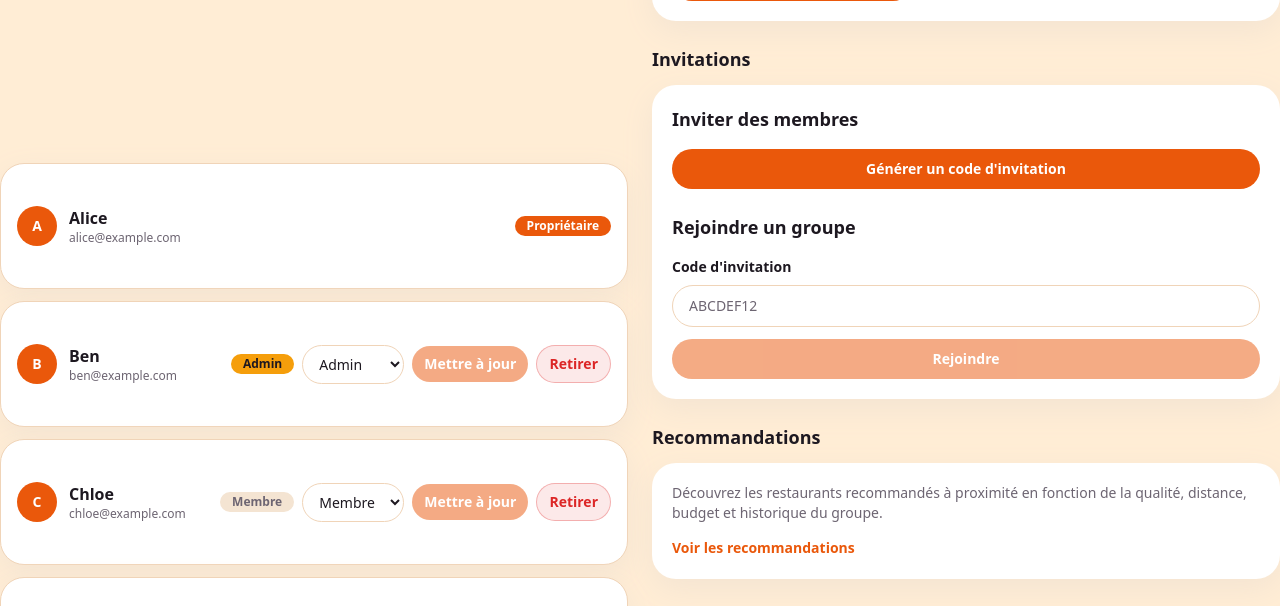
Test: GroupDetailPage › shows join error for conflict (409)
(page scrolled)
Expected: the heading "Invitations" is shown, [652, 47, 750, 71]
Type "ABC12345" into the field labelled "Code d'invitation" at (966, 306), box [672, 285, 1260, 327]
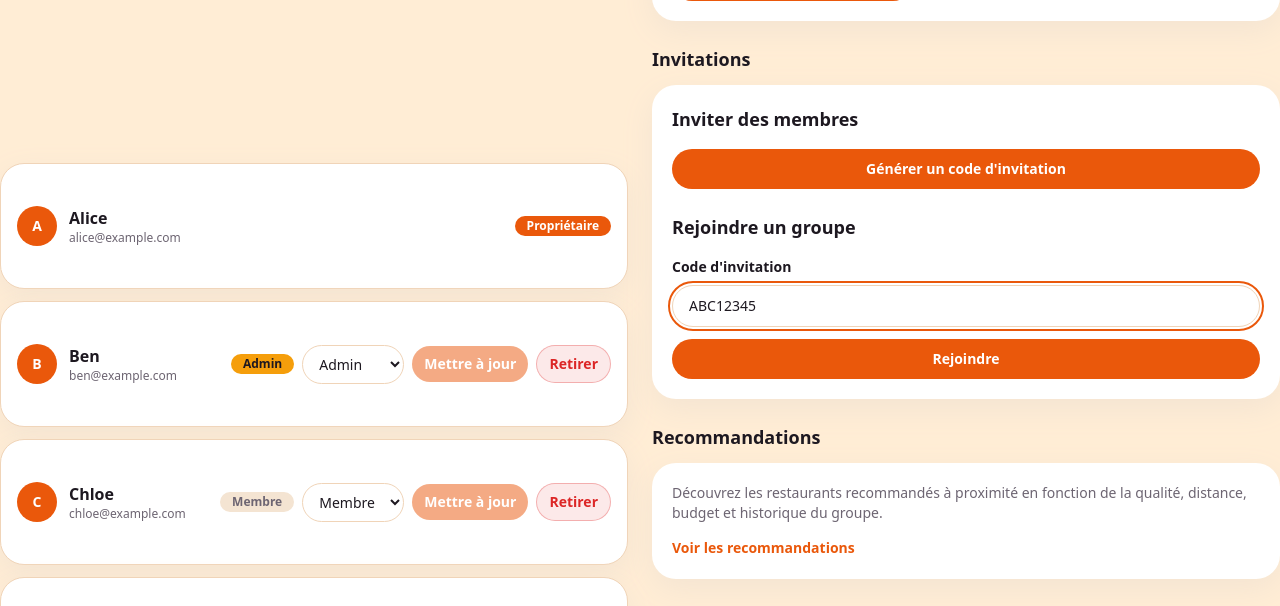
Click the button "Rejoindre" at (966, 359), box [672, 339, 1260, 379]
(page scrolled)
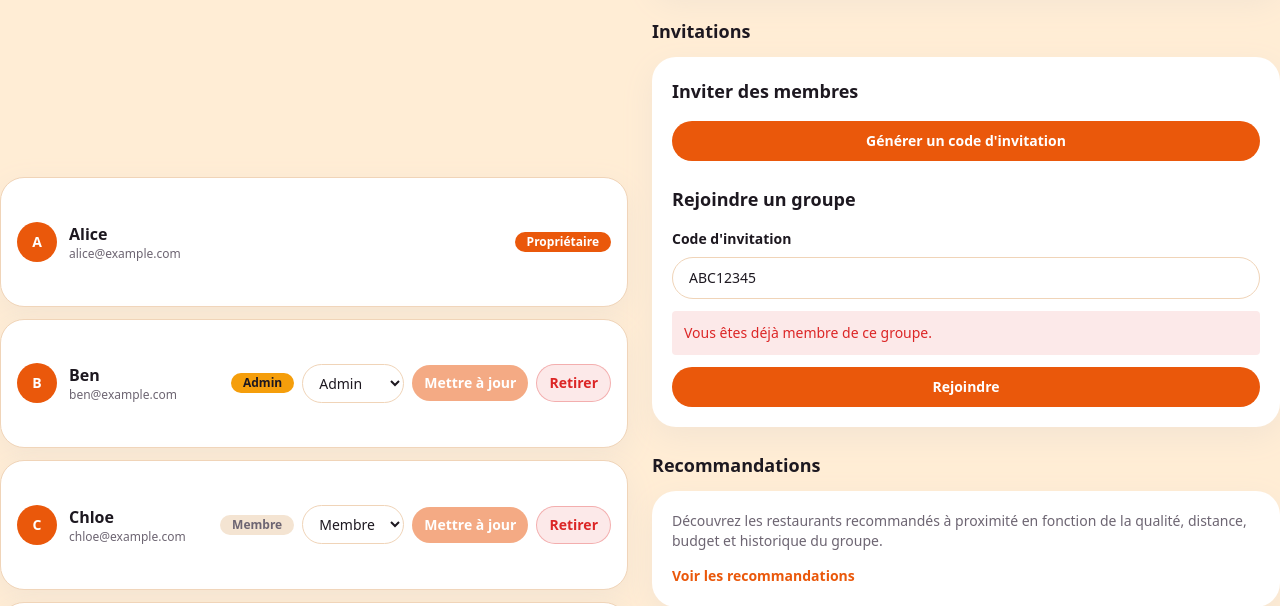
Now the message shows "déjà membre", box [684, 323, 932, 342]
